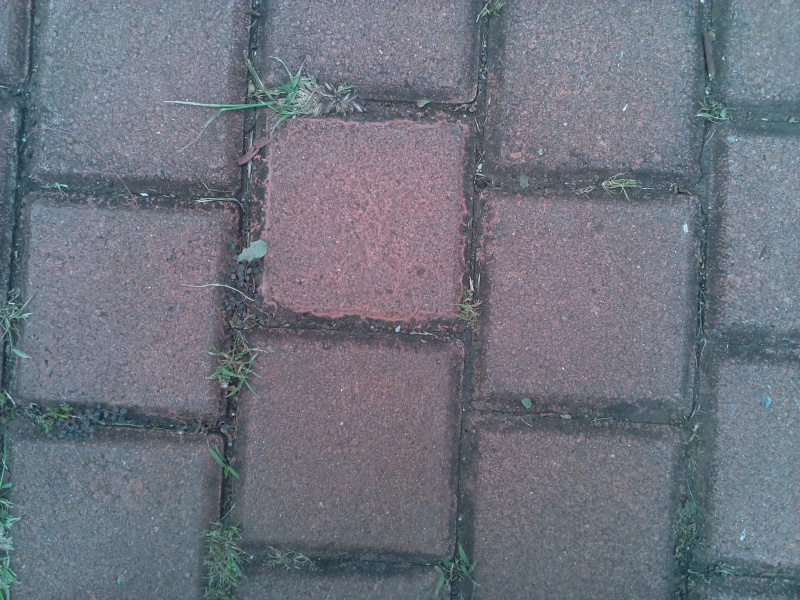Weed: (235, 52, 364, 136), (18, 395, 130, 446), (193, 512, 248, 600), (204, 332, 257, 394), (225, 261, 272, 330), (257, 538, 320, 587), (425, 541, 481, 592), (447, 273, 493, 330), (594, 162, 644, 212), (690, 84, 734, 137)
